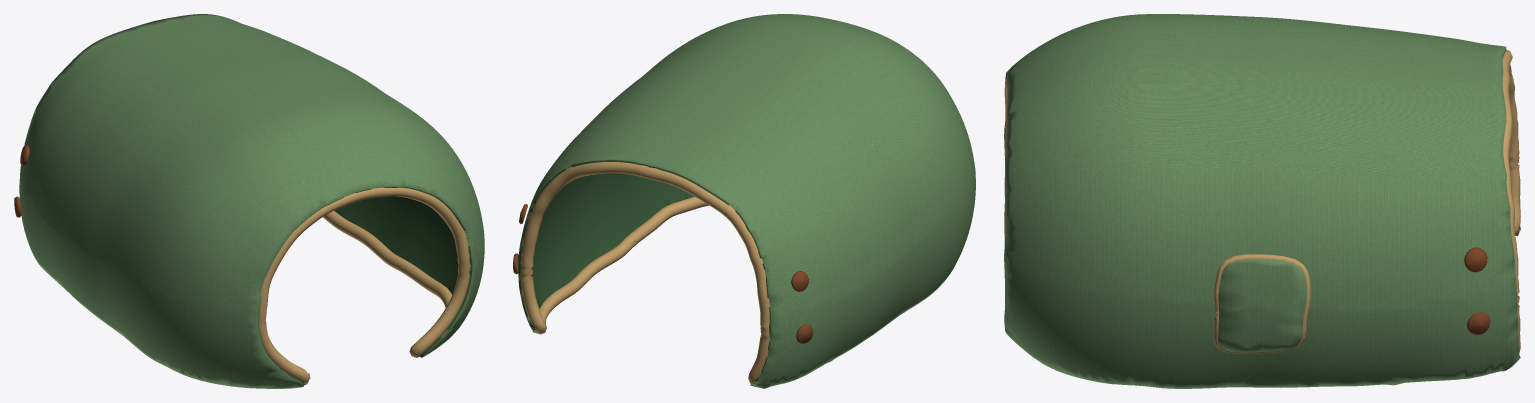
File: vest.glb
3 views of the same model, side by side, from view 1: azimuth 30°, elevation 25°; view 2: azimuth 150°, elevation 25°; view 3: azimuth 270°, elevation 25° (orthographic). The views are drawn at different scales.
Visible parts, largest first — view 1: Vest; view 2: Vest; view 3: Vest.
Part boxes in pixels (left/top/right/bottom): Vest: left=14, top=14, right=484, bottom=388; Vest: left=513, top=14, right=975, bottom=388; Vest: left=1004, top=14, right=1520, bottom=388.
Size of the model in its own units: 0.6364 by 0.4194 by 0.7335.
Materials: 4 (2 with a texture image).
